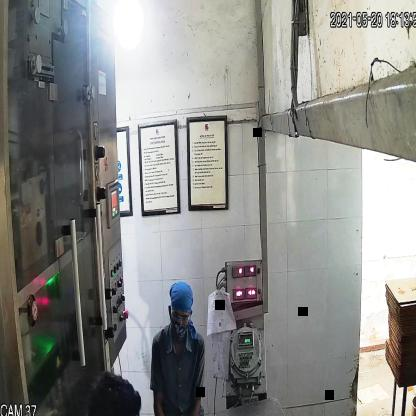goggles: (168, 304, 194, 328)
